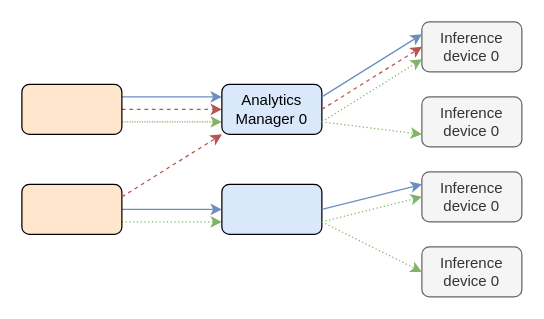
Some shapes in this 544 by 319 pixel diagram are drawn without their labels. The shapes that lost their labels are listed below. From the top down, each one's centre as x and y in pixels, then its label:
(71,108): Flow Manager 0
(71,208): Flow Manager 1
(271,208): Analytics Manager 1
